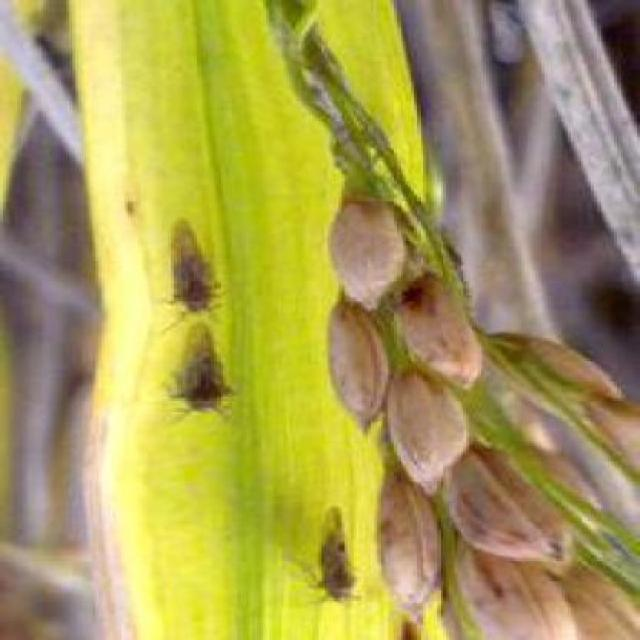brown-planthopper: (158, 216, 224, 316), (173, 323, 236, 415), (308, 502, 361, 606)
